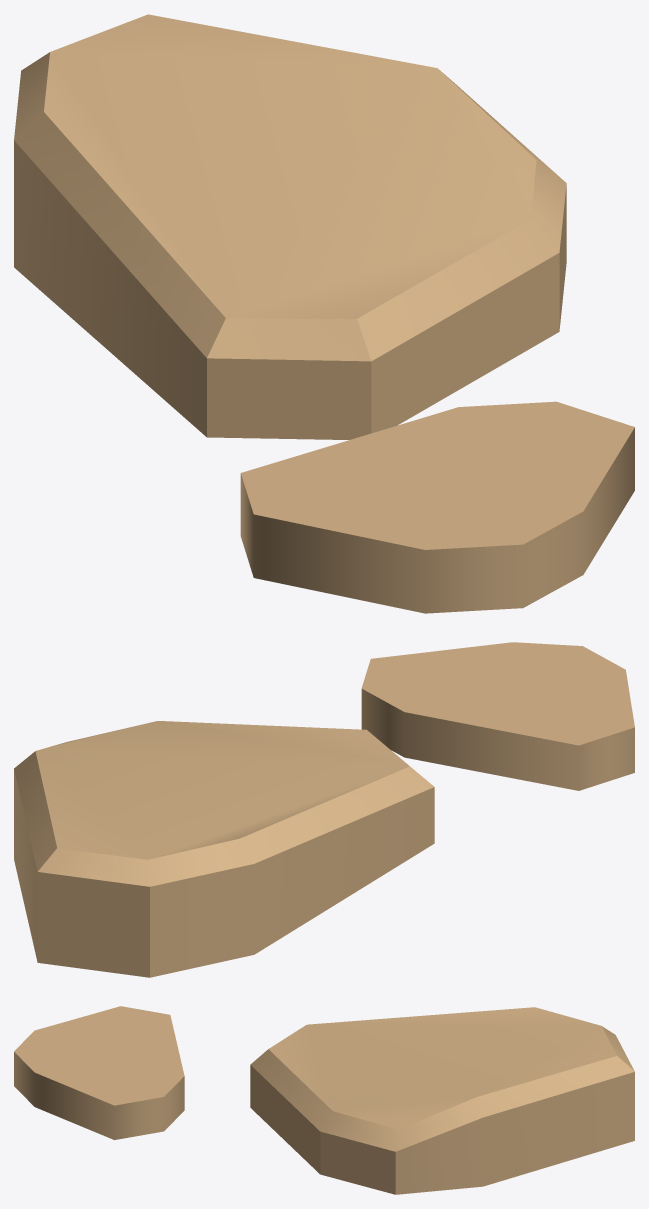
Rendered from 04 Stone.FBX.
The picture shows the model from 3 angles, top to bottom: view 1: azimuth 30°, elevation 25°; view 2: azimuth 150°, elevation 25°; view 3: azimuth 270°, elevation 25°; orthographic projection. The views are drawn at different scales.
Parts seen in each view (by area): view 1: Stone; view 2: Stone; view 3: Stone.
Part boxes in pixels (left/top/right/bottom): Stone: left=14, top=14, right=634, bottom=613; Stone: left=14, top=642, right=634, bottom=977; Stone: left=14, top=1006, right=634, bottom=1194.
Size of the model in its own units: 423 by 109 by 741.
